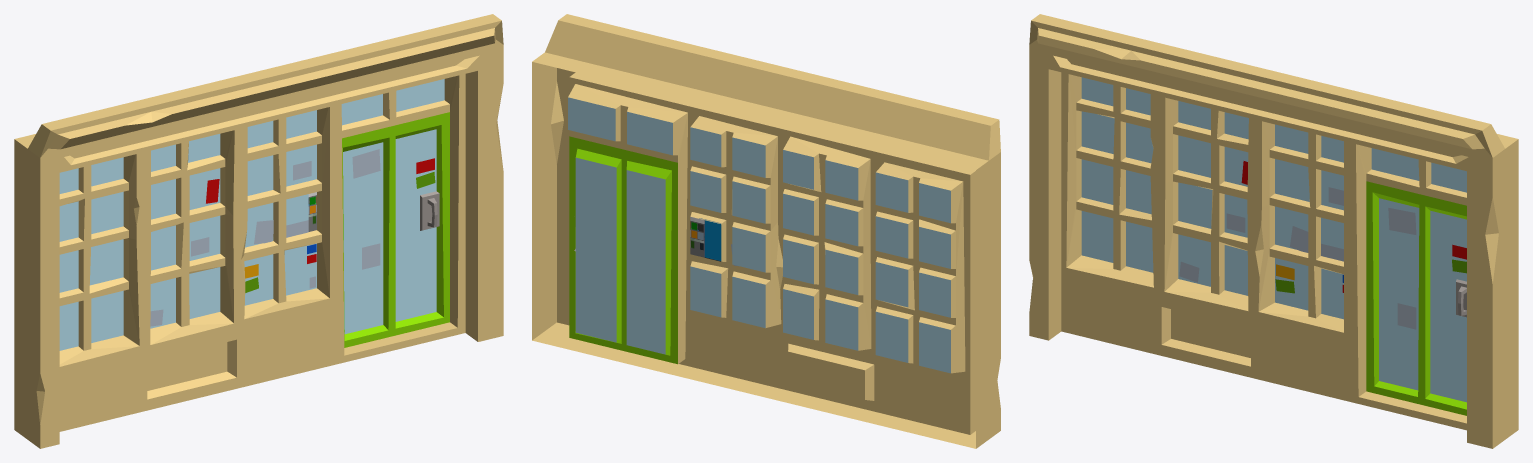
Rendered from House_Front_04_edit.fbx.
3 views of the same model, side by side, from view 1: azimuth 30°, elevation 25°; view 2: azimuth 150°, elevation 25°; view 3: azimuth 330°, elevation 25° (orthographic). The views are drawn at different scales.
Parts seen in each view (by area): view 1: SM_Bld_Shop_02.001; view 2: SM_Bld_Shop_02.001; view 3: SM_Bld_Shop_02.001.
Boxes of the visible parts, bbox=[...] form: SM_Bld_Shop_02.001: bbox=[14, 14, 503, 448]; SM_Bld_Shop_02.001: bbox=[532, 14, 1000, 448]; SM_Bld_Shop_02.001: bbox=[1029, 14, 1518, 448].
Size of the model in its own units: 500 by 330 by 67.51.
